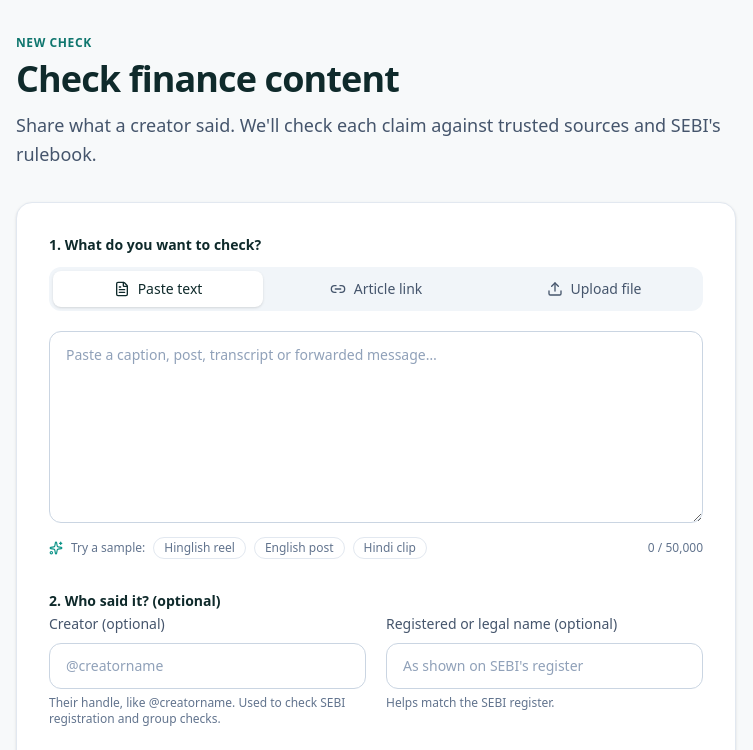
Test: NewCheck › shows a friendly message when rate limited
This screenshot has width=753, height=750.
Step 1. Type "Guaranteed 10% every month" into the text box named "Content to check" → (376, 426), box 49,330 -> 703,522
(page scrolled)
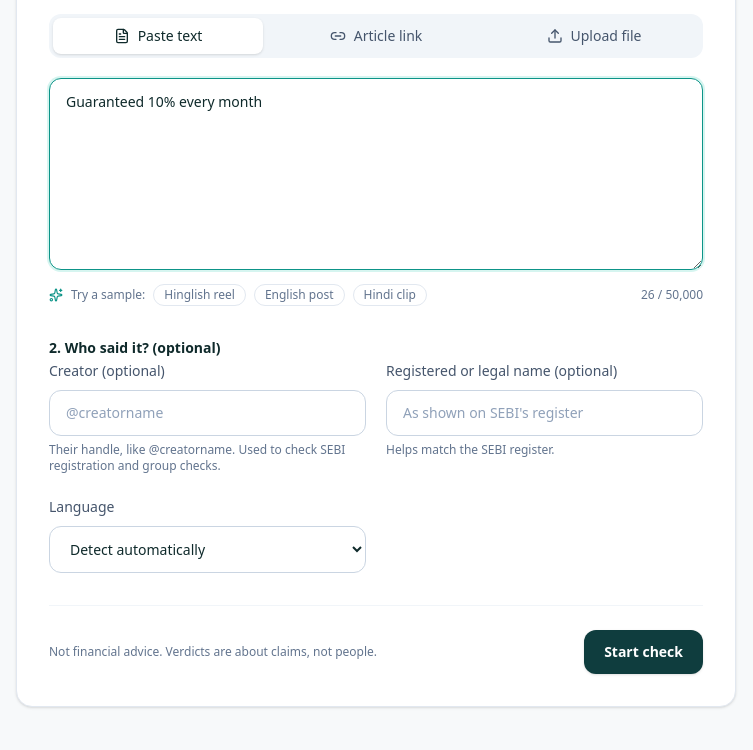
Step 2. Click the button "Start check" → click(644, 652), box 584,630 -> 703,674
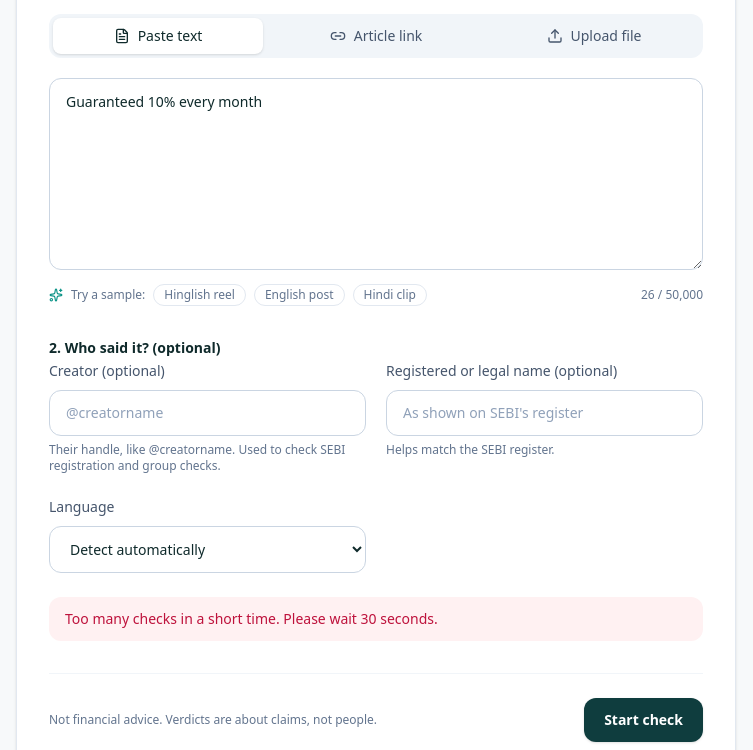
Result: the message shows "wait 30 seconds" at 65,608 -> 438,628
